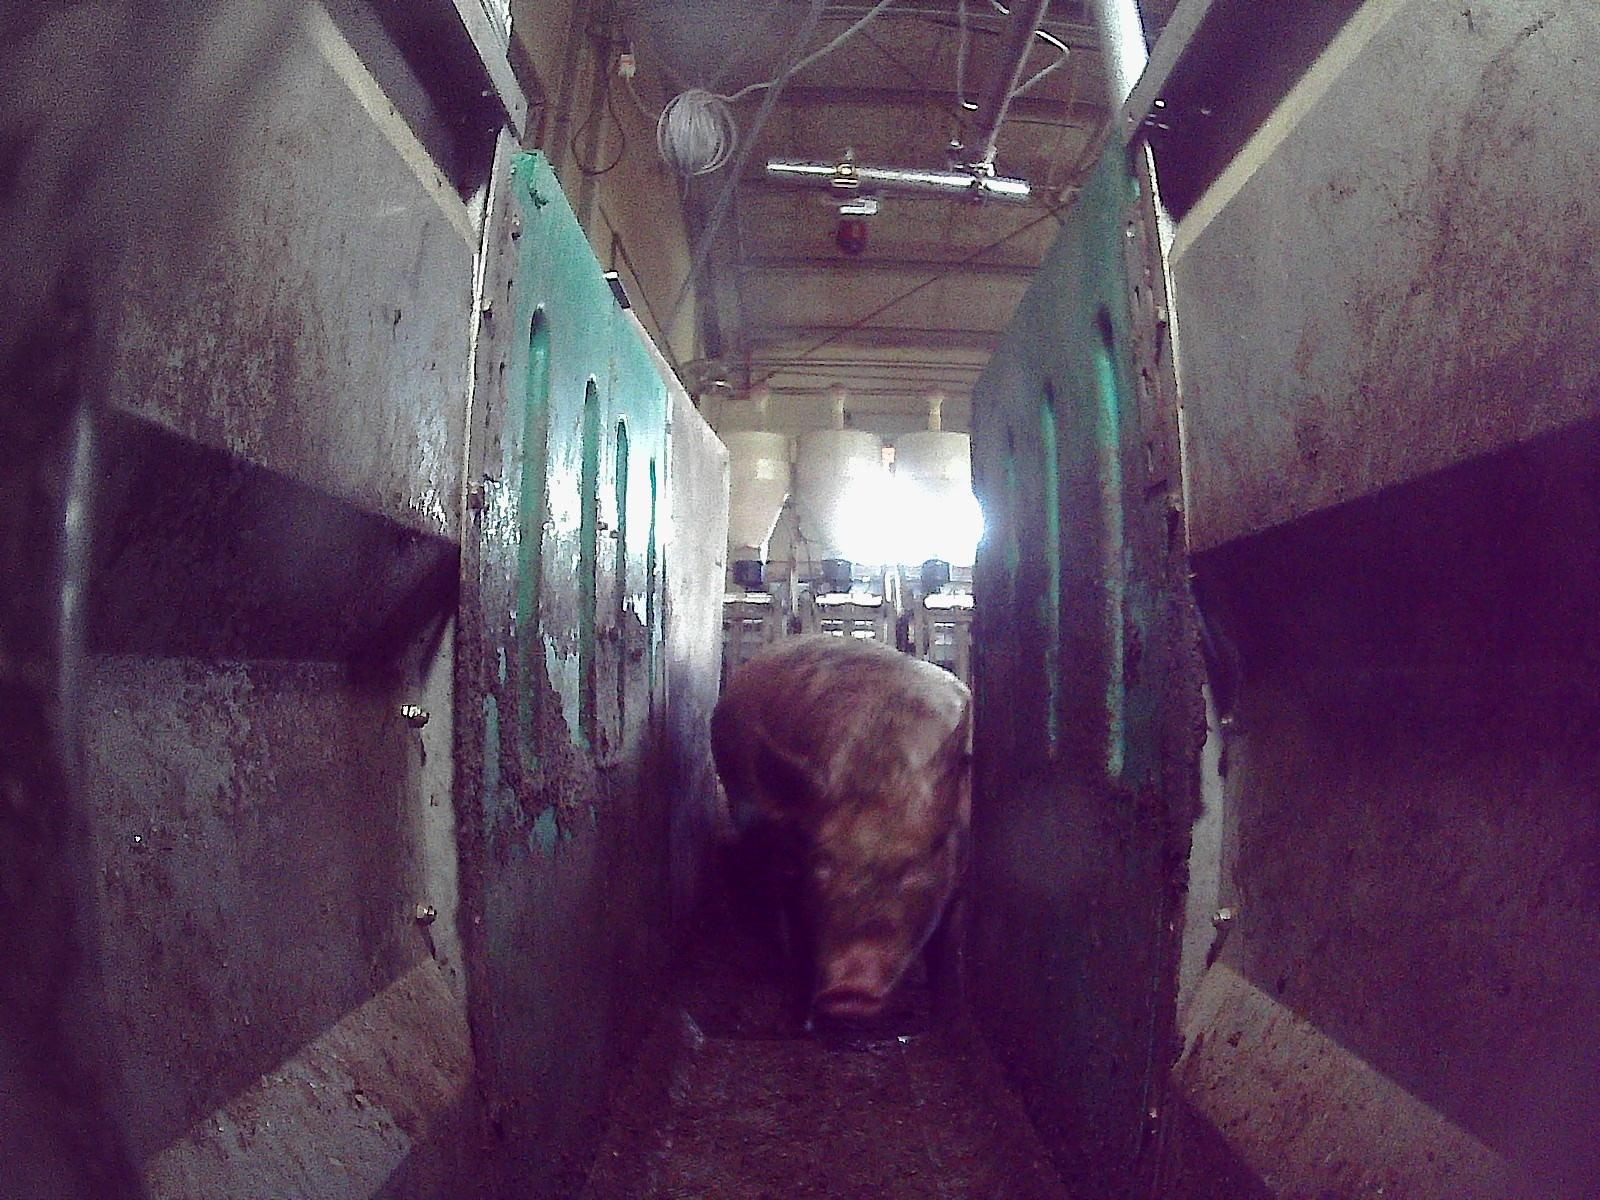Face: (799, 781, 943, 1011)
